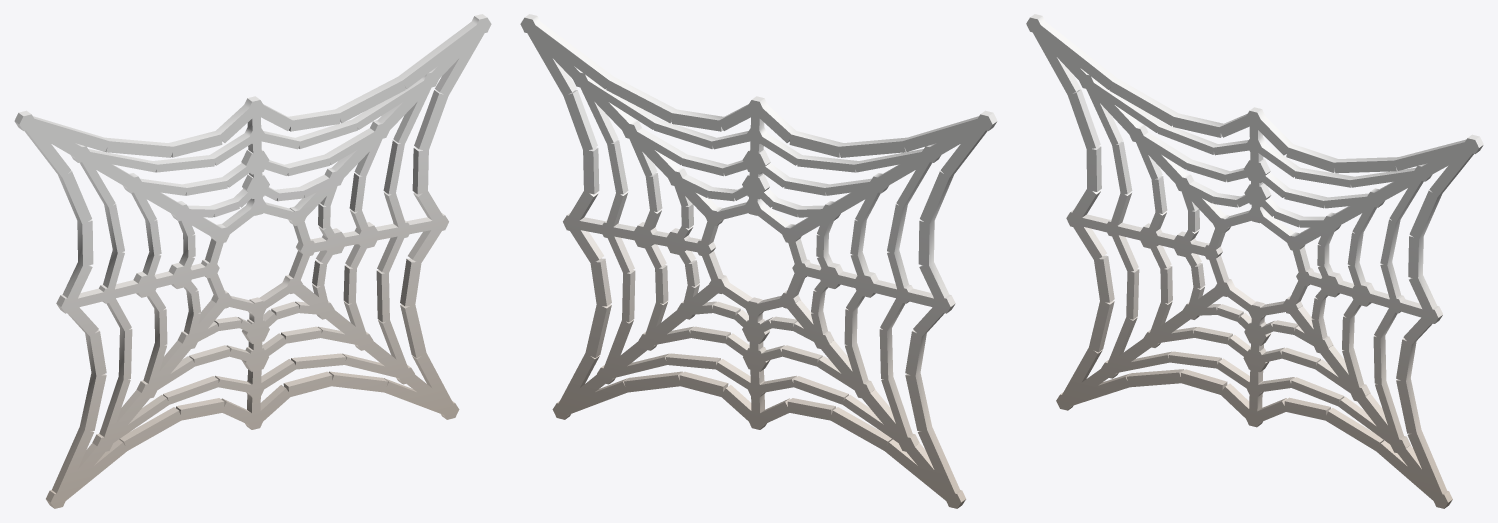
The model's file is web_wall_large.glb.
3 renders of one model, left to right at view 1: azimuth 30°, elevation 25°; view 2: azimuth 150°, elevation 25°; view 3: azimuth 330°, elevation 25°, orthographic. The views are drawn at different scales.
Parts seen in each view (by area): view 1: web_wall_large; view 2: web_wall_large; view 3: web_wall_large.
Boxes of the visible parts, x1,y1,x2,y2 form: web_wall_large: [14, 14, 491, 508]; web_wall_large: [520, 14, 997, 508]; web_wall_large: [1026, 14, 1483, 508].
Bounding box in the file's own units: 2.08 × 1.71 × 0.038.
1 material, 1 textured.
